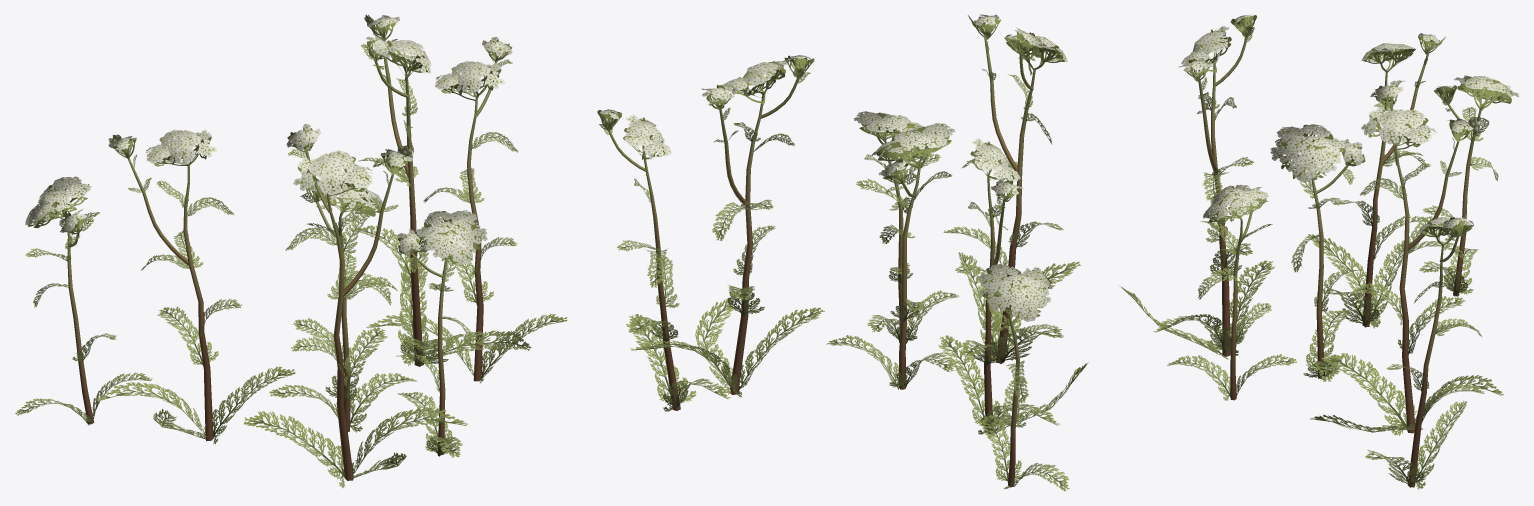
File: SM_Plant_Grass_Yarrow_03.gltf
The picture shows the model from 3 angles, left to right: view 1: azimuth 30°, elevation 25°; view 2: azimuth 150°, elevation 25°; view 3: azimuth 270°, elevation 25°; orthographic projection. The views are drawn at different scales.
Visible parts, largest first — view 1: SM_Plant_Grass_Yarrow_03; view 2: SM_Plant_Grass_Yarrow_03; view 3: SM_Plant_Grass_Yarrow_03.
Part boxes in pixels (x1,y1,x2,y2): SM_Plant_Grass_Yarrow_03: (15, 14, 567, 488); SM_Plant_Grass_Yarrow_03: (597, 14, 1088, 491); SM_Plant_Grass_Yarrow_03: (1119, 14, 1519, 489).
Size of the model in its own units: 0.8652 by 0.6365 by 0.6486.
1 material, 1 textured.
